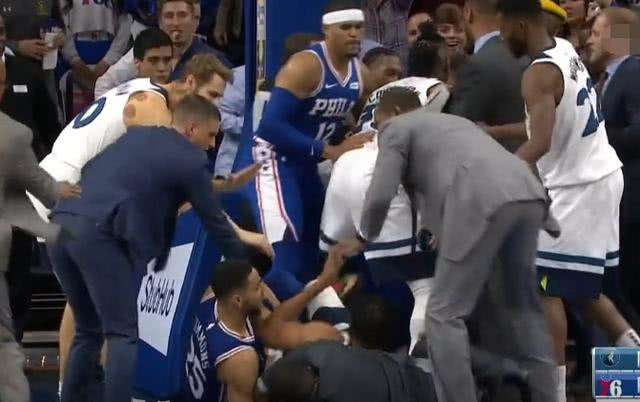10+: (1, 1, 634, 399)
down: (258, 267, 427, 371), (265, 344, 527, 399), (188, 267, 267, 397)
